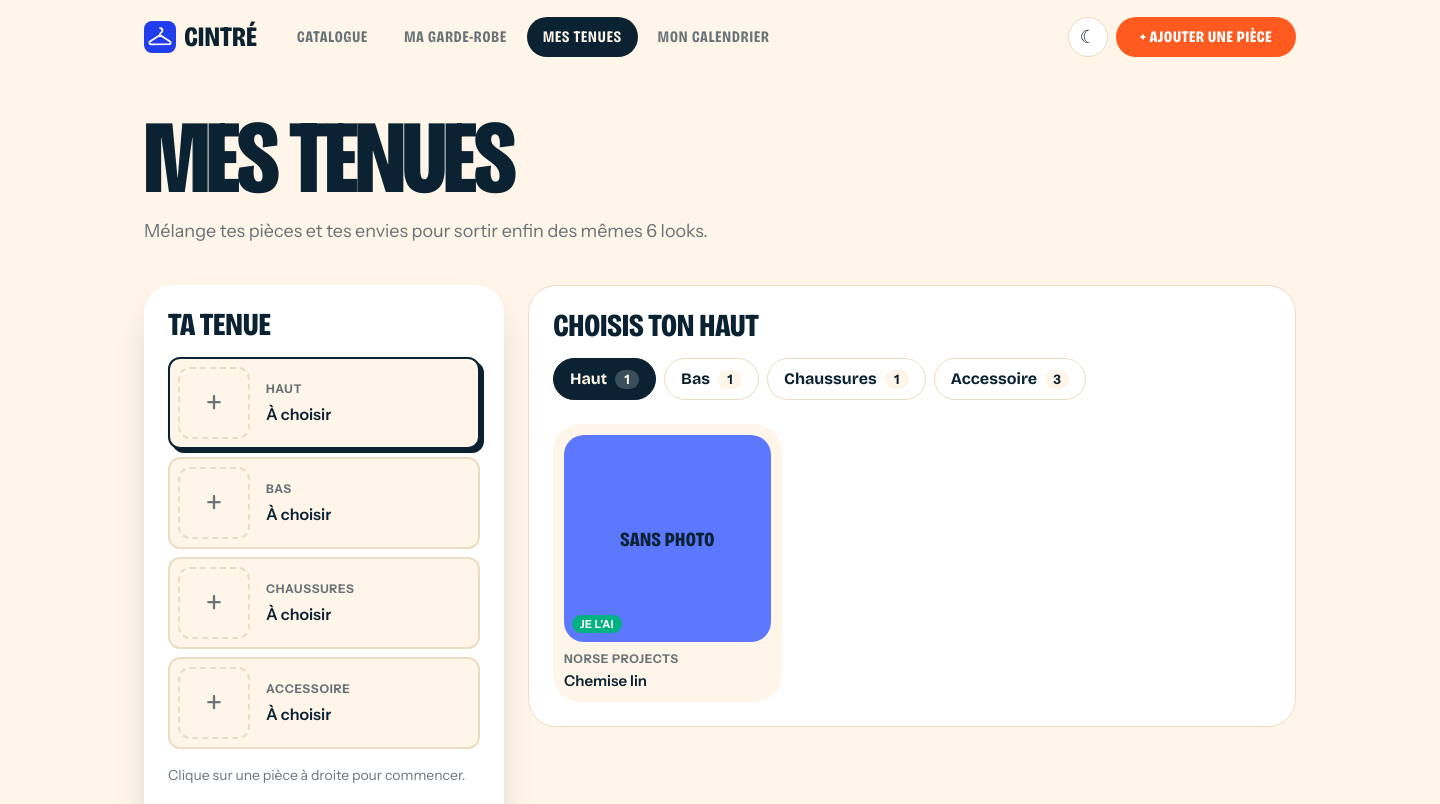
Scenario: Tenues : composer › passe tout seul à l'emplacement suivant après chaque choix
Click the button "Sans photo Je l'ai Norse Projects Chemise lin".
click(667, 563)  # box x1=553 y1=424 x2=782 y2=702
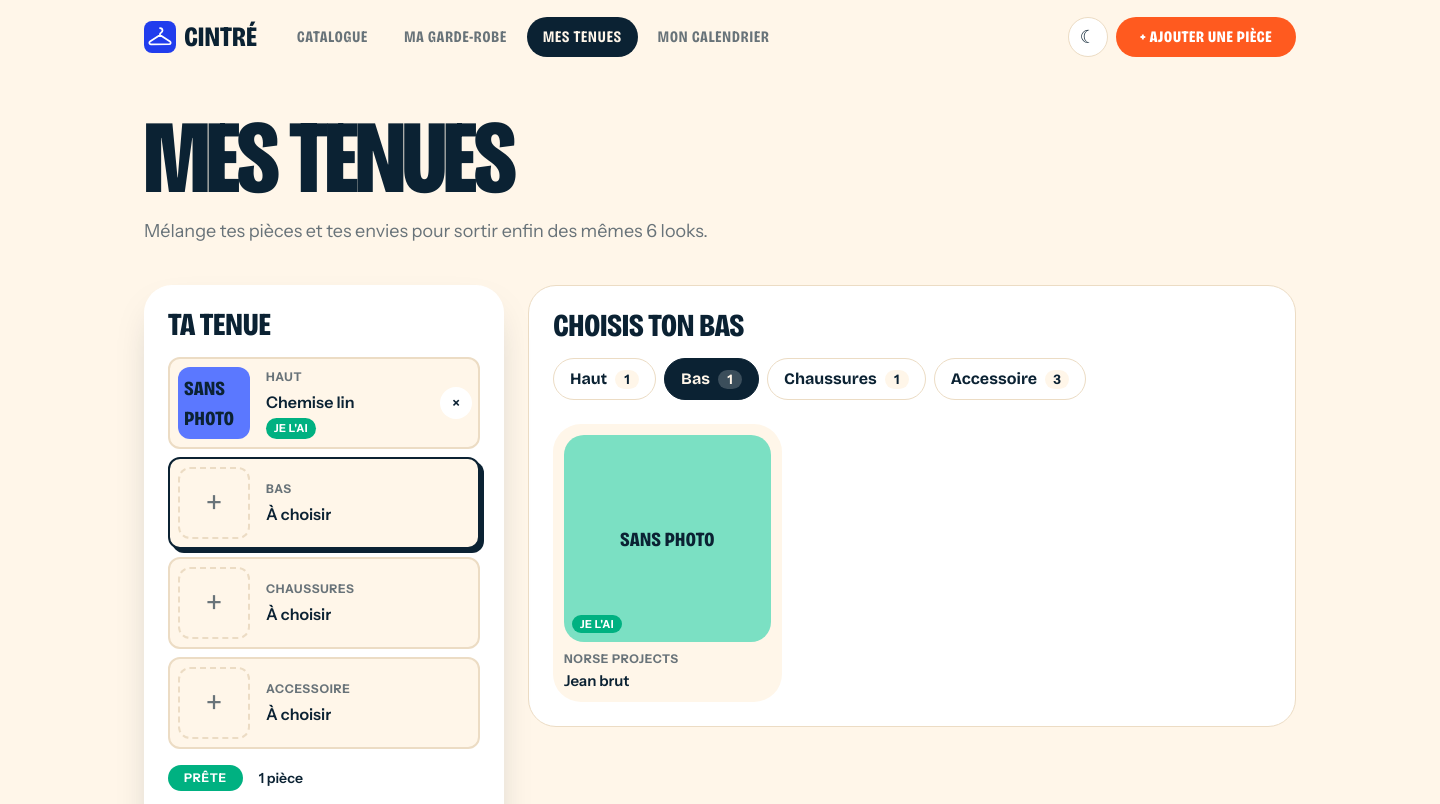
Check: the heading "Choisis ton bas" is shown, box x1=553 y1=306 x2=744 y2=345
Click the button "Sans photo Je l'ai Norse Projects Jean brut".
click(667, 563)  # box x1=553 y1=424 x2=782 y2=702
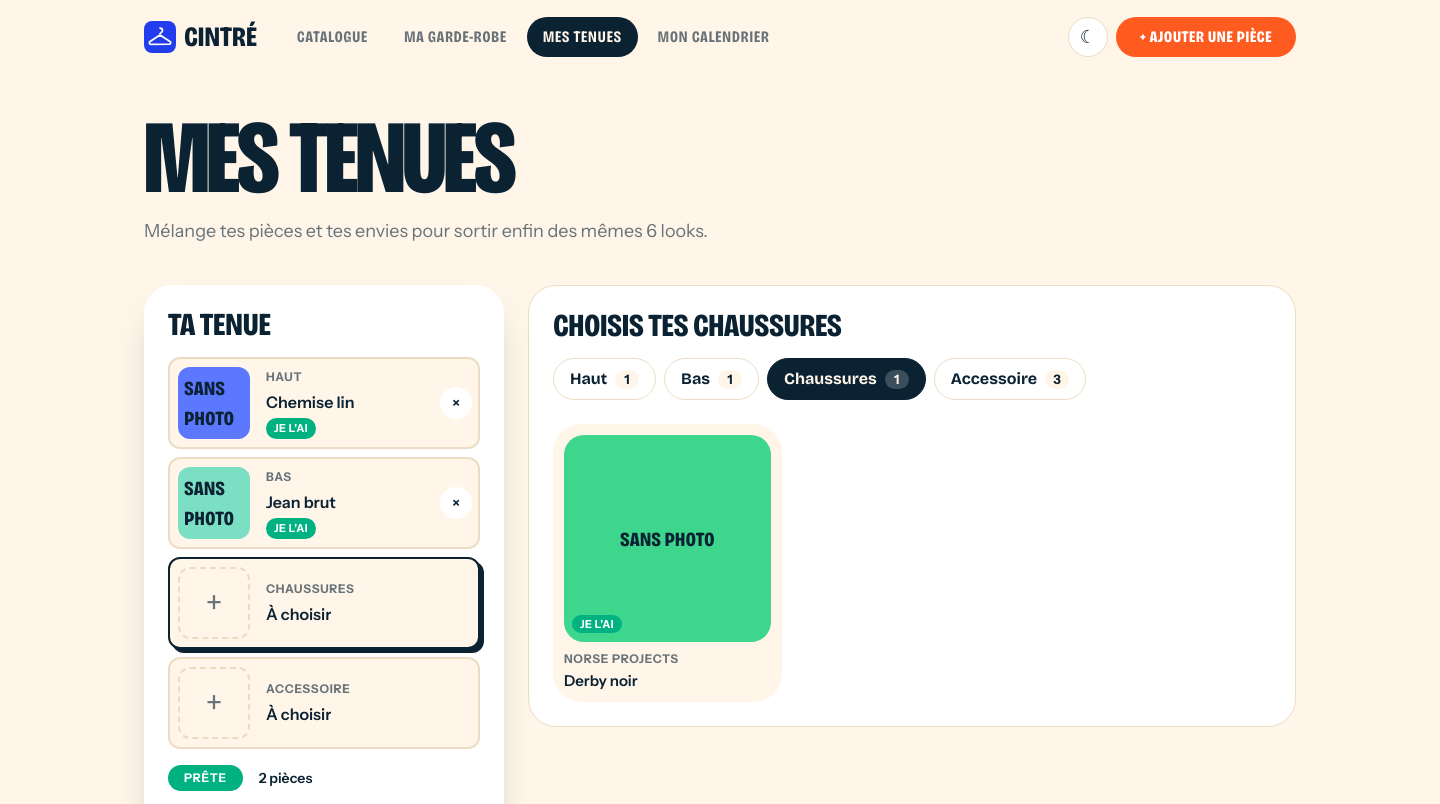
Check: the heading "Choisis tes chaussures" is shown, box x1=553 y1=306 x2=841 y2=345
